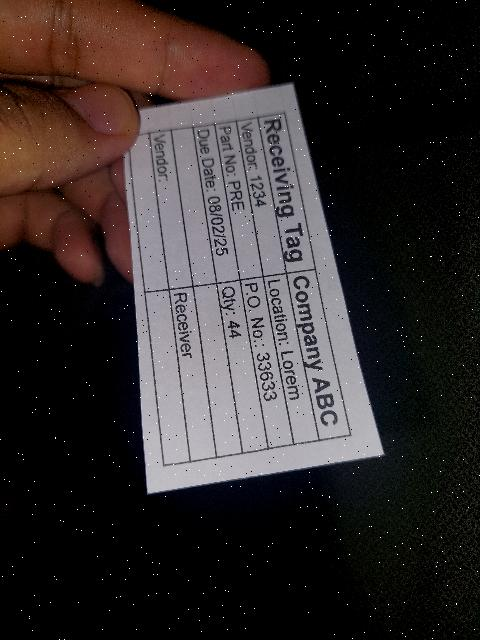PO no: (240, 277, 294, 449)
part no: (214, 122, 262, 280)
qty: (216, 281, 267, 453)
tags: (124, 85, 384, 493)
